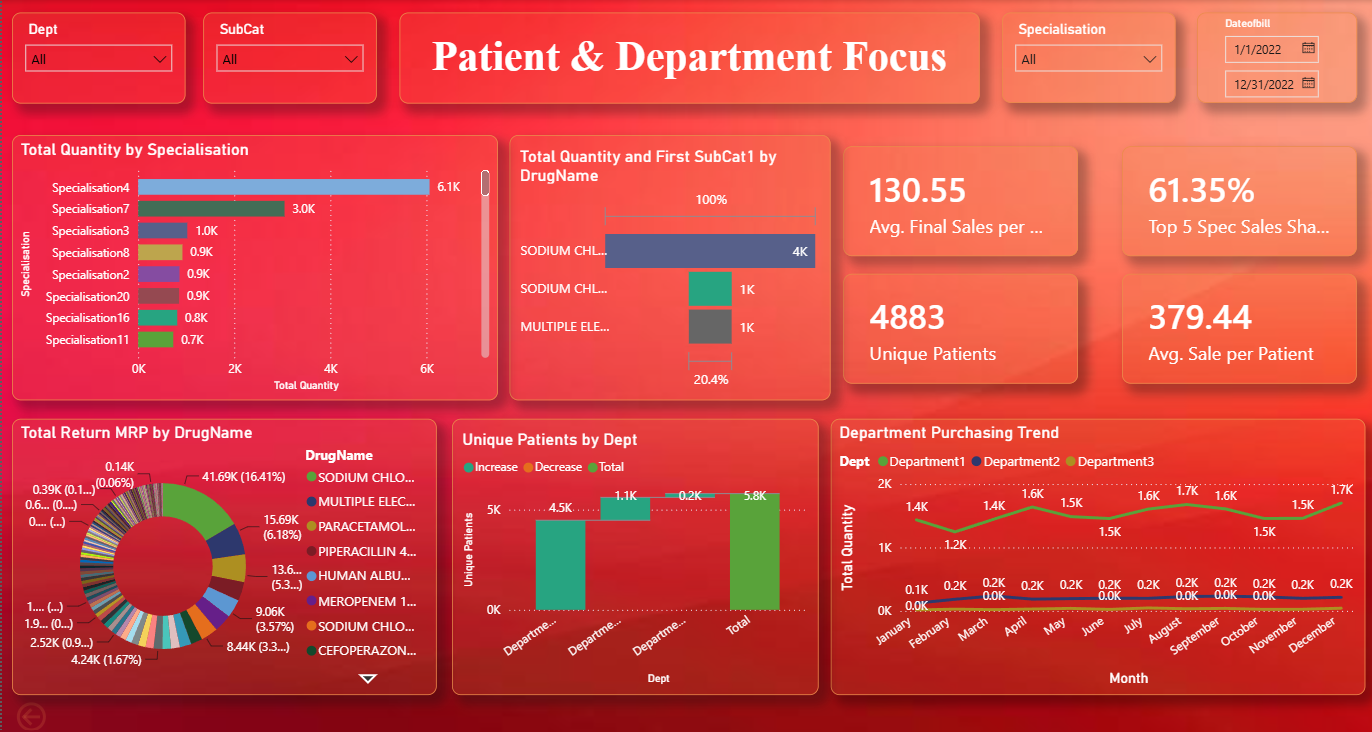

This screenshot's page, from the dashboard's own definition file:
{"tool":"powerbi","page":{"name":"Dashboard 3","canvas":[1400,750],"ordinal":2},"visuals":[{"type":"cardVisual","fields":{"Data":["Dash 3 DAX House.Unique Patients"]},"box":[857.3,279,239.5,112.1],"z":0},{"type":"cardVisual","fields":{"Data":["Dash 3 DAX House.Avg. Sale per Patient"]},"box":[1141.3,279,239.5,112.1],"z":1000},{"type":"cardVisual","fields":{"Data":["Dash 3 DAX House.Avg. Final Sales per Bill"]},"box":[857.3,149,239.5,112.1],"z":2000},{"type":"cardVisual","fields":{"Data":["Dash 3 DAX House.Top 5 Spec Sales Share"]},"box":[1141.3,149,239.5,112.1],"z":3000},{"type":"lineChart","title":"Department Purchasing Trend","fields":{"Category":["DimDate.Dateofbill.Variation.Date Hierarchy.Month"],"Y":["Dash 2 DAX House.Total Quantity"],"Series":["DimDept.Dept"]},"box":[844.5,426.7,545.2,281.5],"z":5000},{"type":"waterfallChart","fields":{"Category":["DimDept.Dept"],"Y":["Dash 3 DAX House.Unique Patients"]},"box":[458.6,426.7,373.2,281.5],"z":6000},{"type":"funnel","fields":{"Category":["DimProduct.DrugName"],"Y":["Dash 2 DAX House.Total Quantity"]},"box":[517.2,137.6,327.4,270],"z":7000},{"type":"slicer","fields":{"Values":["DimDept.Dept"]},"box":[10.2,12.7,177.1,93],"z":8000},{"type":"slicer","fields":{"Values":["DimDept.Specialisation"]},"box":[1019,12.7,177.1,92],"z":9000},{"type":"slicer","fields":{"Values":["DimProduct.SubCat"]},"box":[205.1,12.7,177.1,93],"z":10000},{"type":"textbox","box":[405.1,12.7,591,93],"z":11000},{"type":"slicer","fields":{"Values":["DimDate.Dateofbill"]},"box":[1217.7,12.7,163,91.7],"z":12000},{"type":"actionButton","box":[10.2,710.8,42,39.5],"z":13000},{"type":"donutChart","fields":{"Category":["DimProduct.DrugName"],"Y":["Dash 3 DAX House.Total Return MRP"]},"box":[10.2,426.7,433.1,281.5],"z":14000},{"type":"barChart","fields":{"Category":["DimDept.Specialisation"],"Y":["Dash 2 DAX House.Total Quantity"]},"box":[10.2,137.6,495.5,270],"z":14001}]}

Visuals, with their boxes in screenshot pixels (x1, y1, x2, y2), scaled from the page's 1400x750 canvas onto the 1372x732 screenshot:
cardVisual - Dash 3 DAX House.Unique Patients: (840,272,1075,382)
cardVisual - Dash 3 DAX House.Avg. Sale per Patient: (1118,272,1353,382)
cardVisual - Dash 3 DAX House.Avg. Final Sales per Bill: (840,145,1075,255)
cardVisual - Dash 3 DAX House.Top 5 Spec Sales Share: (1118,145,1353,255)
"Department Purchasing Trend" lineChart: (828,416,1362,691)
waterfallChart - DimDept.Dept x Dash 3 DAX House.Unique Patients: (449,416,815,691)
funnel - DimProduct.DrugName x Dash 2 DAX House.Total Quantity: (507,134,828,398)
slicer - DimDept.Dept: (10,12,184,103)
slicer - DimDept.Specialisation: (999,12,1172,102)
slicer - DimProduct.SubCat: (201,12,375,103)
textbox: (397,12,976,103)
slicer - DimDate.Dateofbill: (1193,12,1353,102)
actionButton: (10,694,51,731)
donutChart - DimProduct.DrugName x Dash 3 DAX House.Total Return MRP: (10,416,434,691)
barChart - DimDept.Specialisation x Dash 2 DAX House.Total Quantity: (10,134,496,398)
